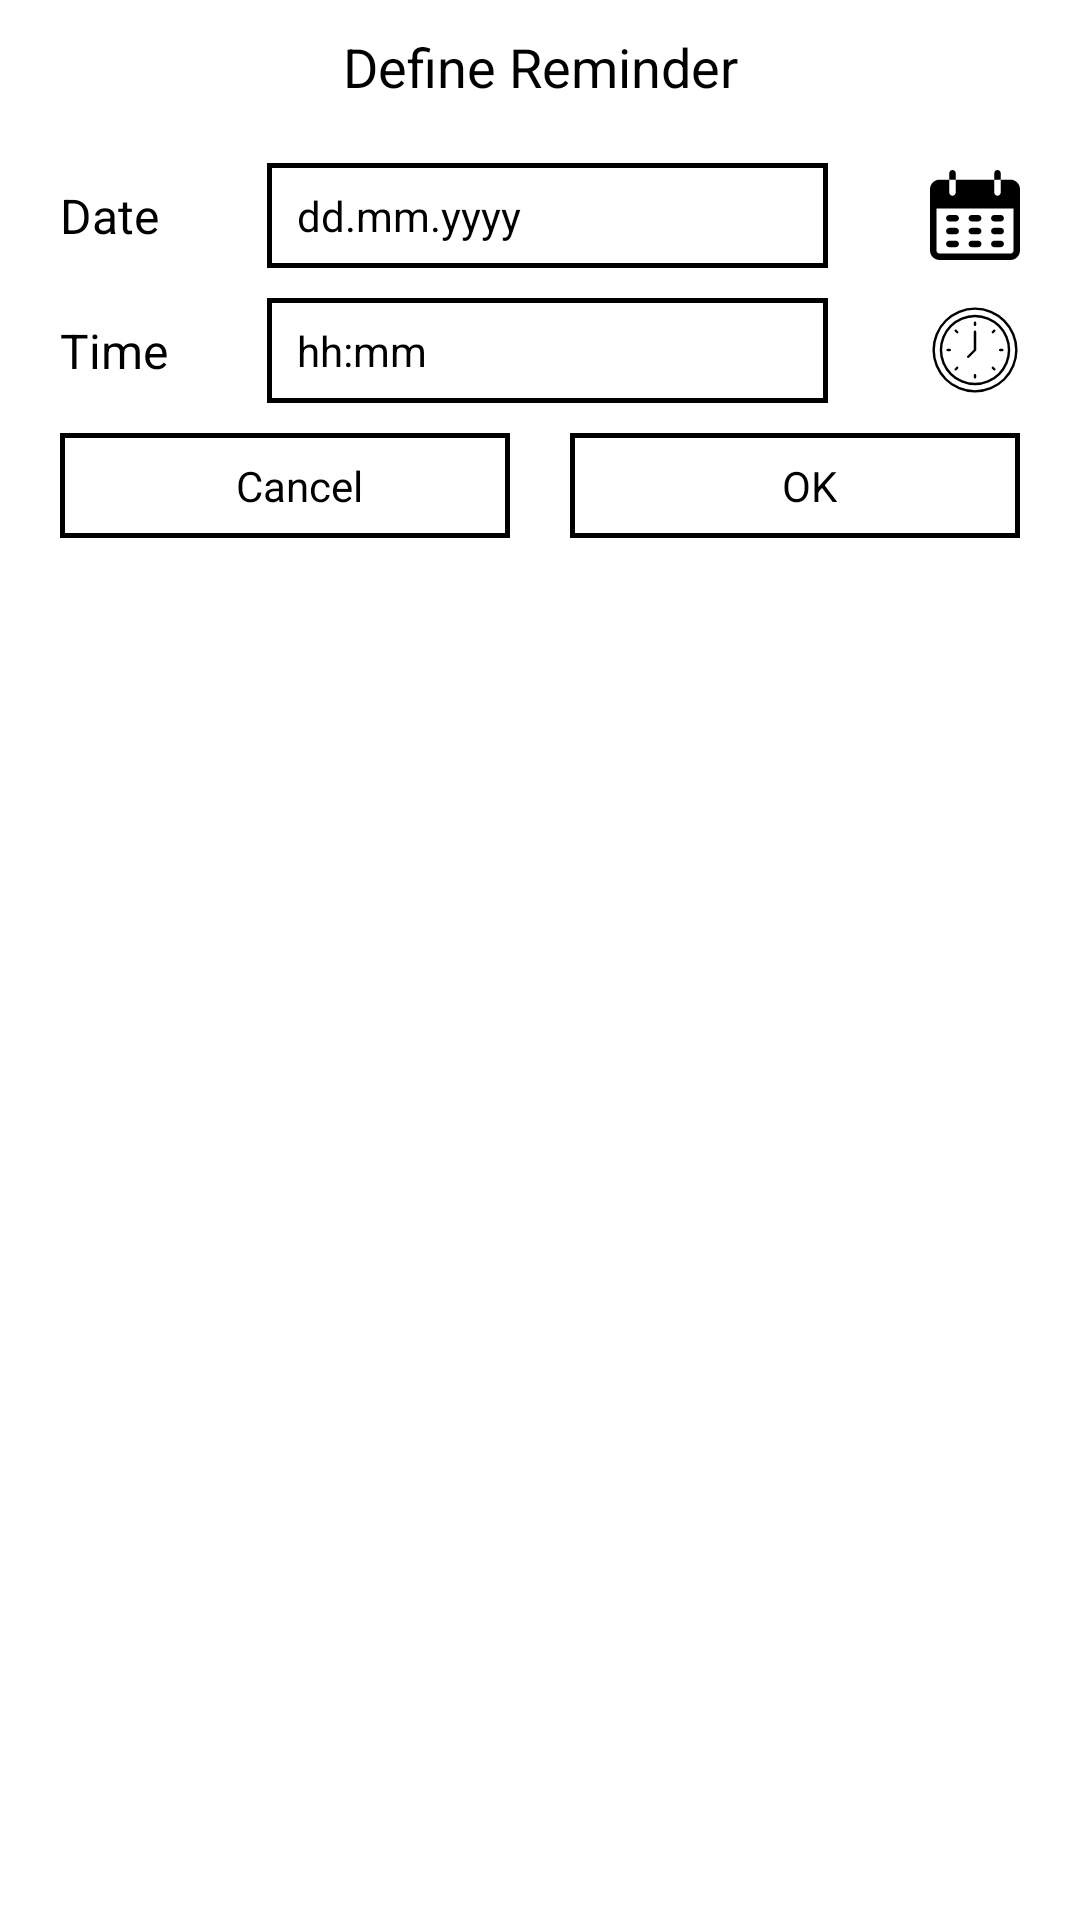

Point at icon controls on the screen. Image size 1080 x 1920, points as [x,y].
calendar: [975,215]
clock time: [975,350]
